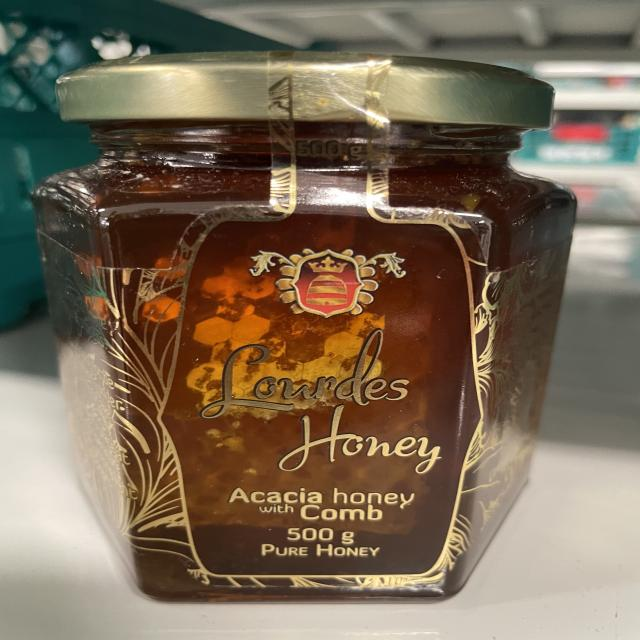object_name: (49, 59, 581, 601)
